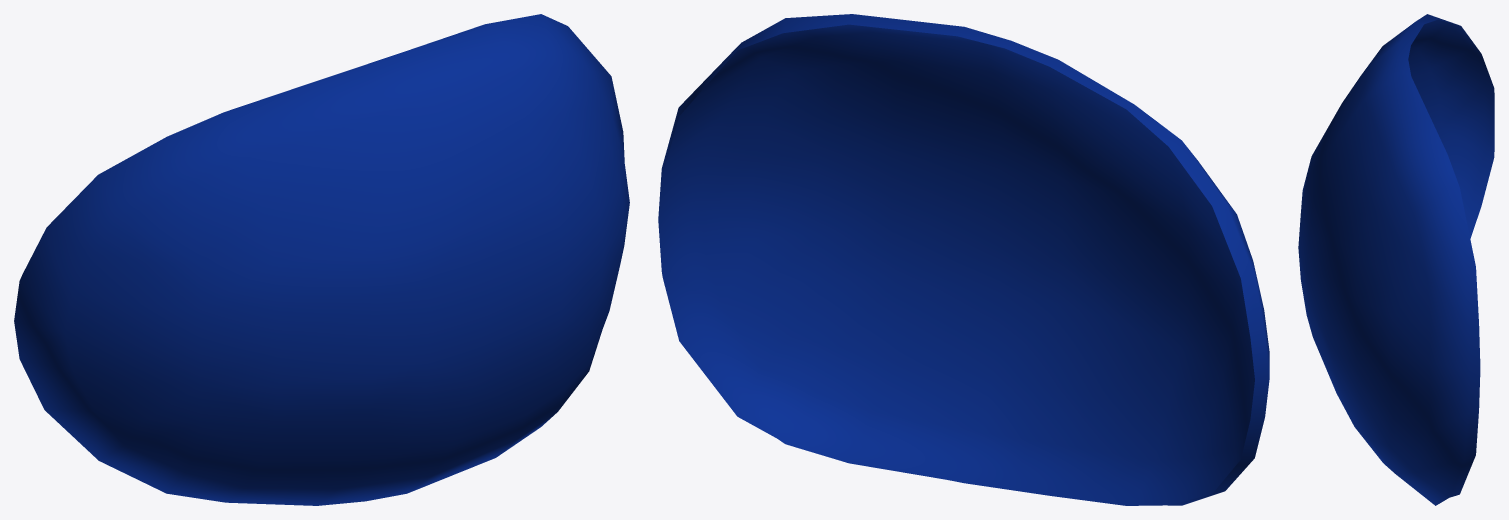
Rendered from HeadRoll_shell.obj.
The picture shows the model from 3 angles, left to right: view 1: azimuth 30°, elevation 25°; view 2: azimuth 150°, elevation 25°; view 3: azimuth 270°, elevation 25°; orthographic projection. The views are drawn at different scales.
Bounding box in the file's own units: 0.2089 × 0.1467 × 0.0682.
